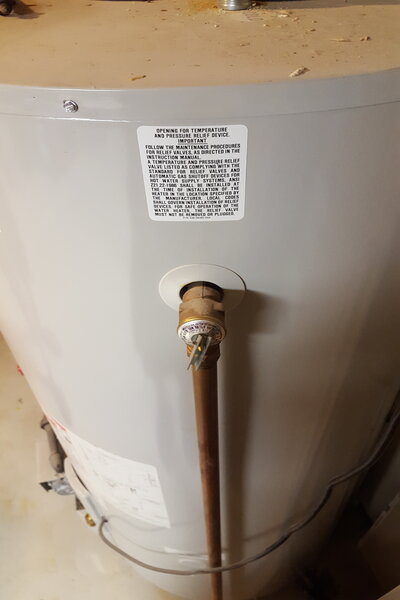valve: (177, 280, 226, 374)
